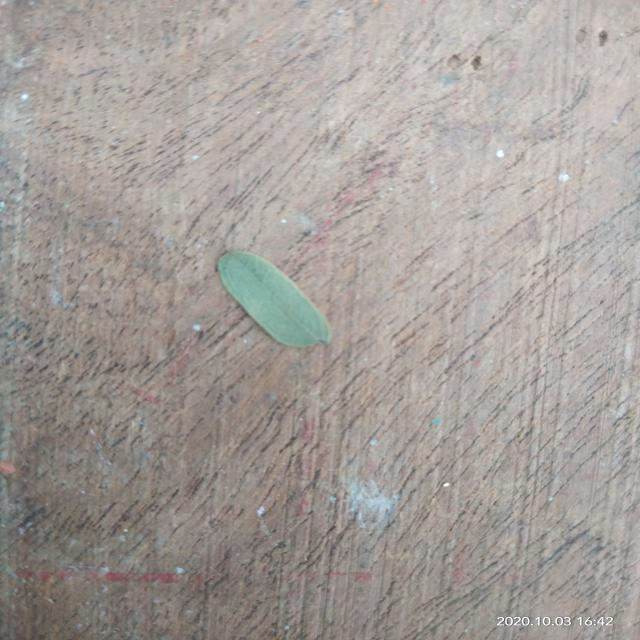tamarind: (218, 251, 332, 348)
